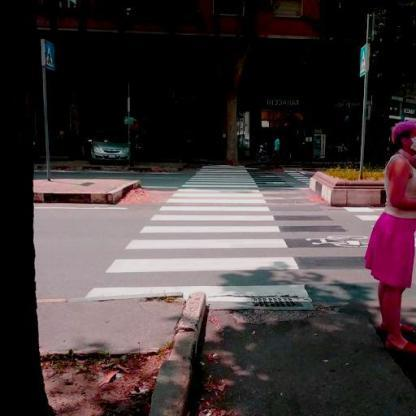crosswalk: (122, 222, 292, 256), (156, 198, 272, 214), (176, 180, 265, 190)
